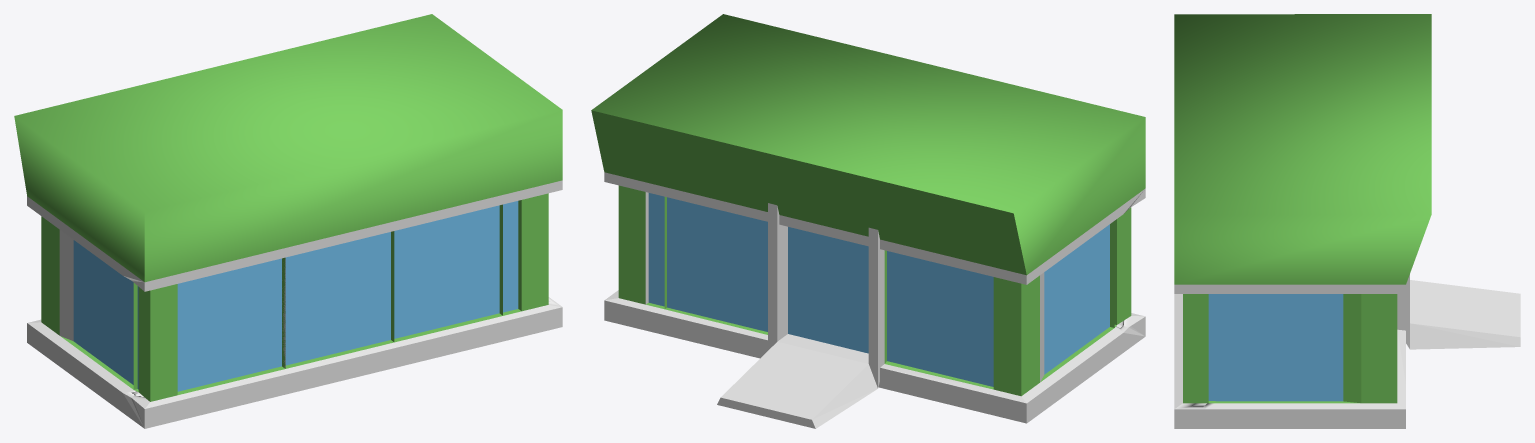
Rendered from Shop4x2x2Green.fbx.
The picture shows the model from 3 angles, left to right: view 1: azimuth 30°, elevation 25°; view 2: azimuth 150°, elevation 25°; view 3: azimuth 270°, elevation 25°; orthographic projection. The views are drawn at different scales.
Parts seen in each view (by area): view 1: Shop.002; view 2: Shop.002; view 3: Shop.002.
Part boxes in pixels (<box>): Shop.002: <box>14,14,562,428</box>; Shop.002: <box>591,14,1145,428</box>; Shop.002: <box>1174,14,1520,428</box>.
Size of the model in its own units: 3.99 by 1.98 by 2.91.
1 material, 1 textured.
